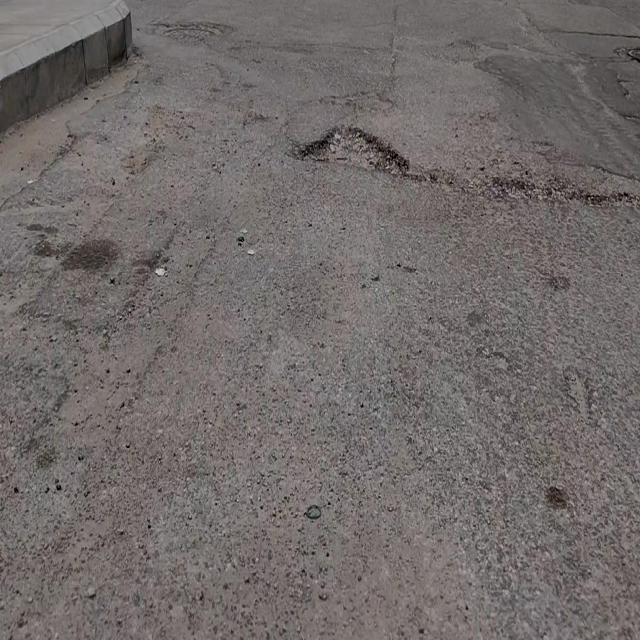Potholes: (298, 124, 407, 175)
